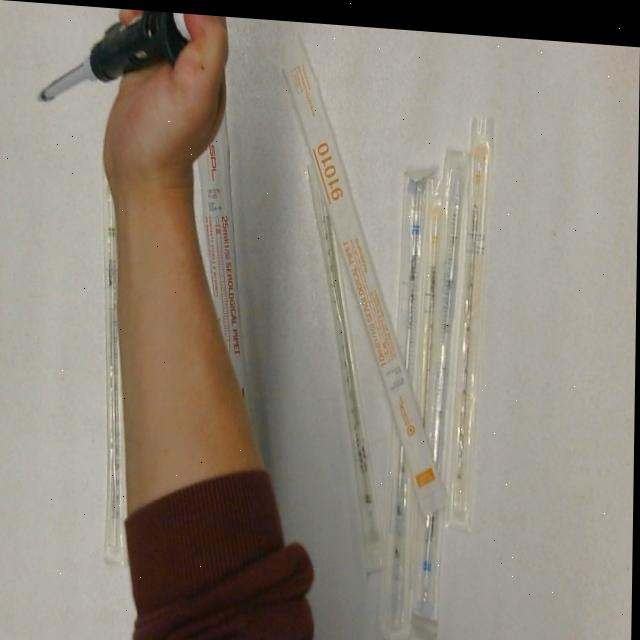Serelogical Pipet 1 mL - Sealed: (443, 105, 502, 523), (412, 169, 453, 423)
Serelogical Pipet 10 mL - Sealed: (274, 18, 457, 512)
Serelogical Pipet 2 mL - Sealed: (281, 144, 401, 572), (99, 147, 138, 568)
Serelogical Pipet 25 mL - Sealed: (176, 46, 265, 549)
Serelogical Pipet 5 mL - Sealed: (414, 138, 474, 620), (382, 151, 434, 636)
Single Channel Pipettor: (22, 1, 238, 118)
